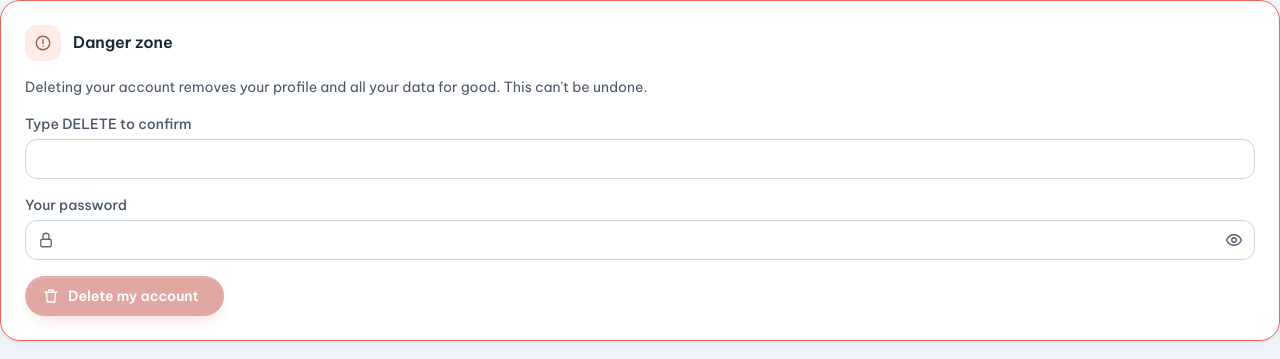
Test: DangerSection › keeps the button off until DELETE is typed and a password is entered
The width and height of the screenshot is (1280, 359).
Expected: the button "Delete my account" is disabled, [25,276,224,316]
Type "DELETE" into the field labelled "Type DELETE to confirm" at coordinates (640, 159), box [25,139,1255,179]
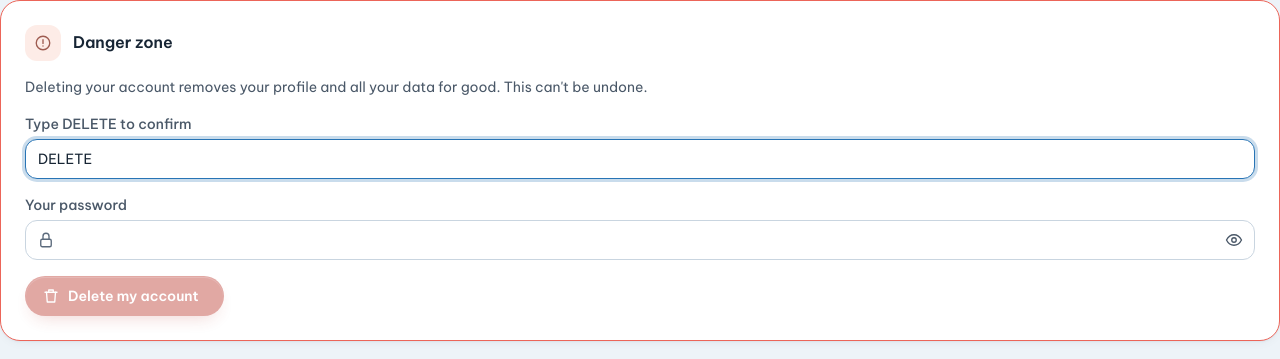
Expected: the button "Delete my account" is disabled, [25,276,224,316]
Type "secret123" into the password field labelled "Your password" at coordinates (640, 240), box [25,220,1255,260]
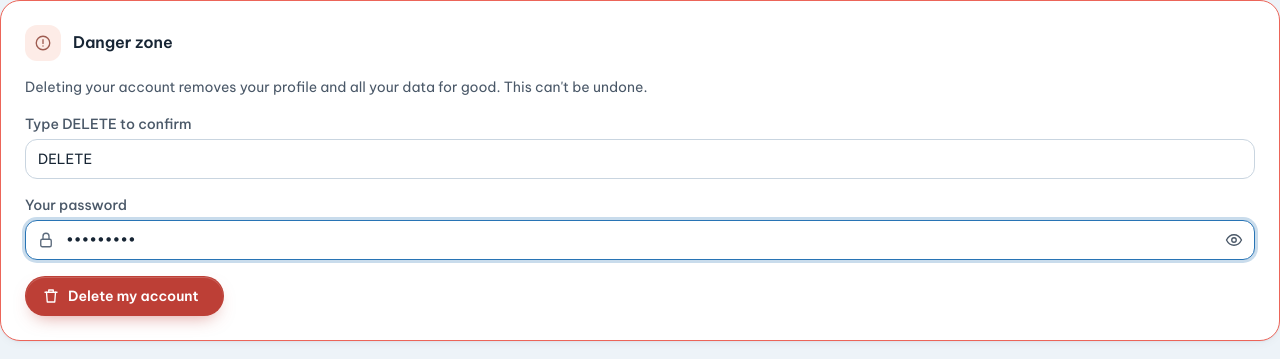
Now the button "Delete my account" is enabled, box [25,276,224,316]
